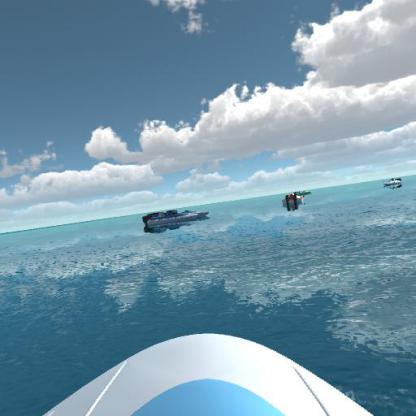usv0: (293, 187, 317, 198)
usv1: (140, 207, 199, 228), (168, 203, 212, 221), (382, 174, 404, 192)
usv3: (279, 191, 308, 212)
